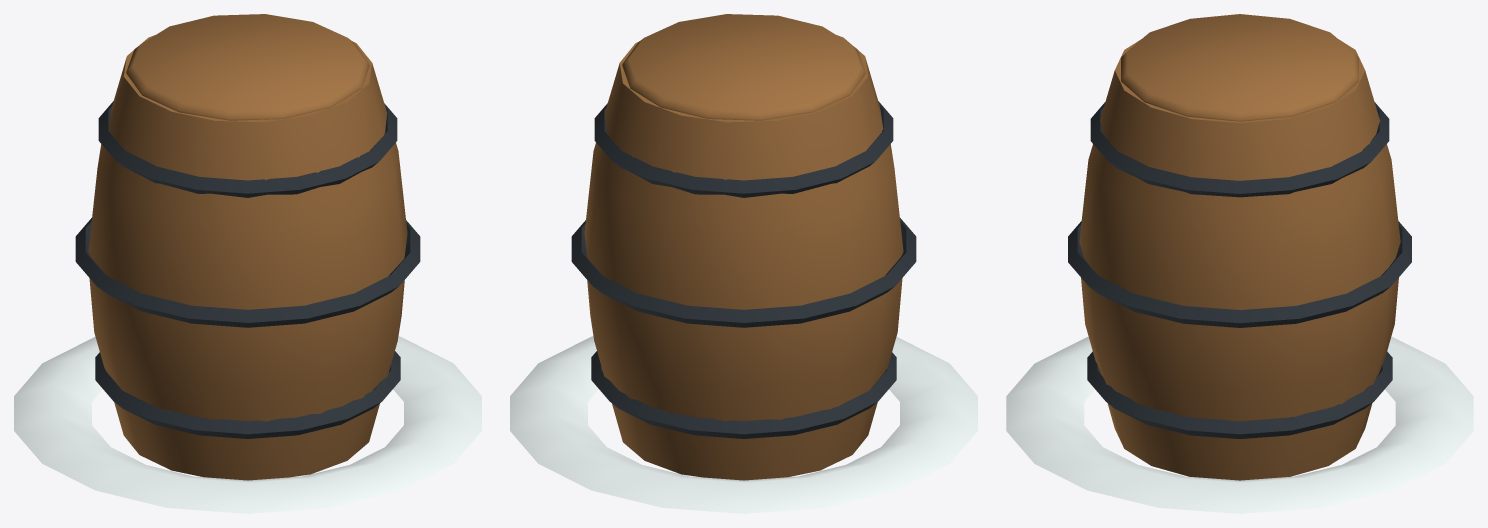
File: W2_Barrel_A.fbx
The picture shows the model from 3 angles, left to right: view 1: azimuth 30°, elevation 25°; view 2: azimuth 150°, elevation 25°; view 3: azimuth 270°, elevation 25°; orthographic projection.
Parts seen in each view (by area): view 1: W2_Barrel_A; view 2: W2_Barrel_A; view 3: W2_Barrel_A.
Boxes of the visible parts, x1,y1,x2,y2 form: W2_Barrel_A: (14, 14, 481, 513); W2_Barrel_A: (510, 14, 977, 513); W2_Barrel_A: (1006, 14, 1473, 513).
Bounding box in the file's own units: 1.44 × 1.23 × 1.42.
